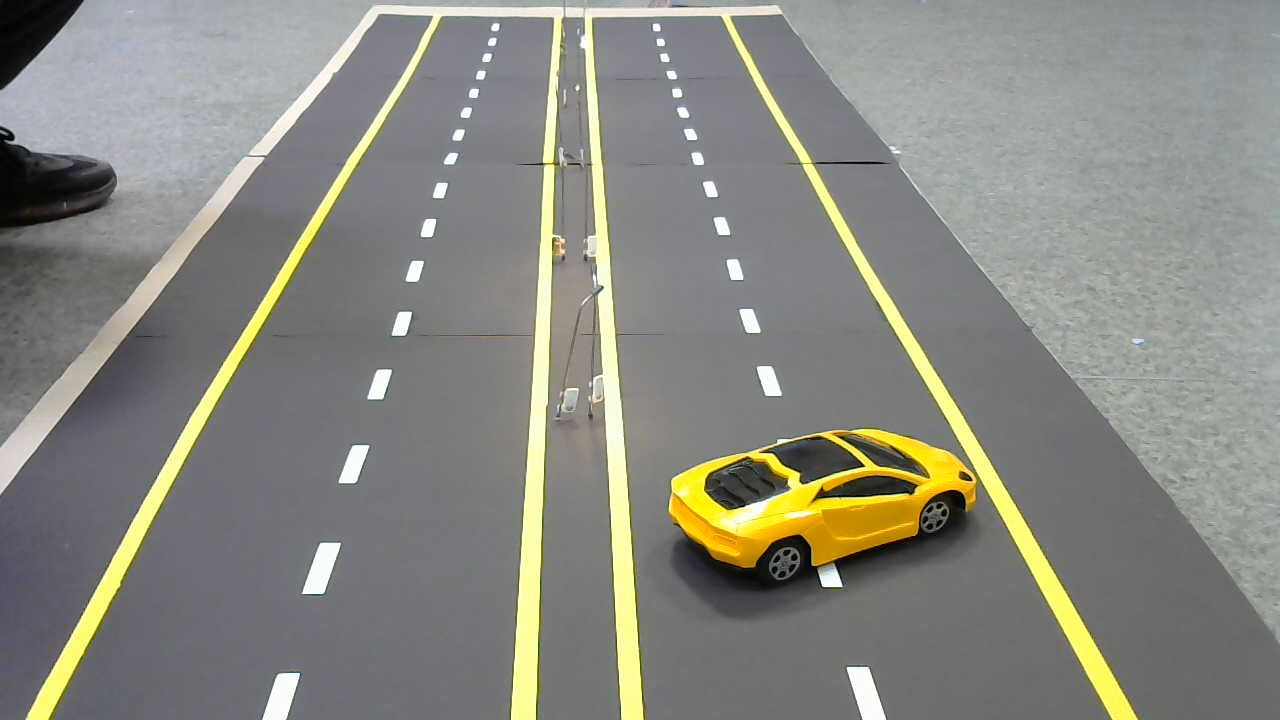overturn_car: (663, 418, 989, 589)
